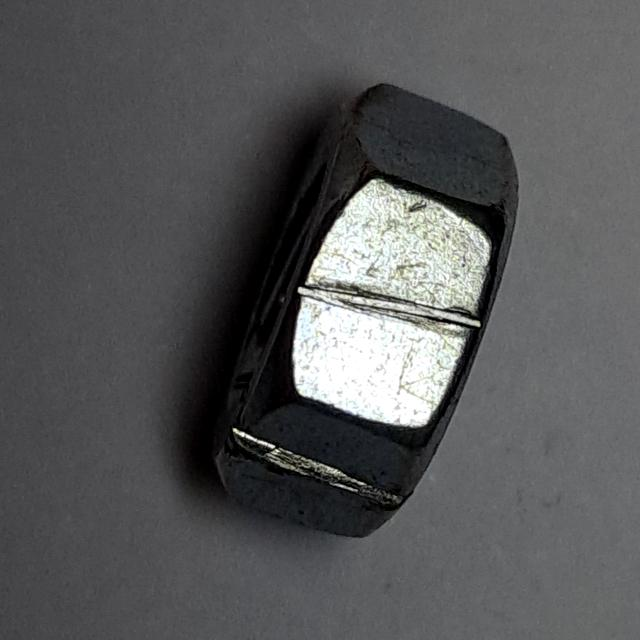Side_Scratches: (196, 70, 533, 562)
